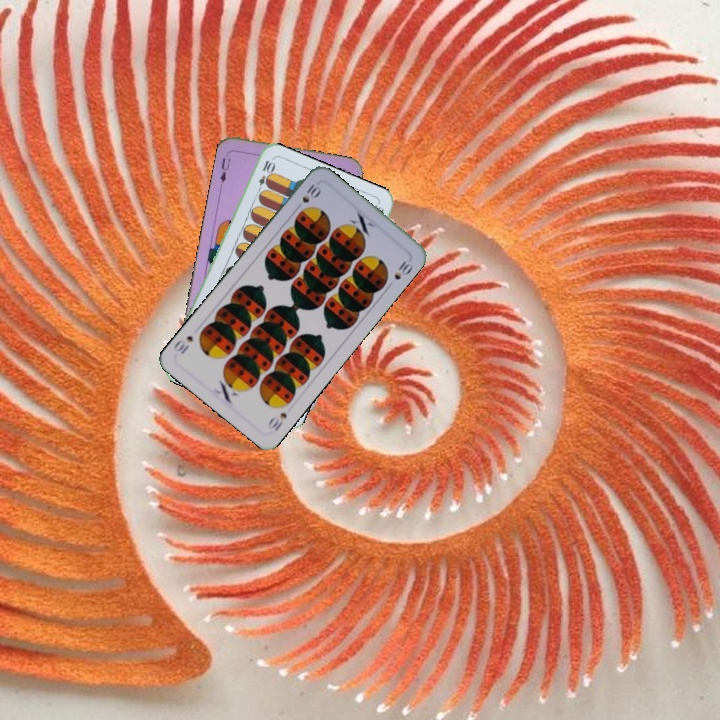E10: (253, 156, 276, 196)
EU: (216, 154, 233, 185)
S10: (298, 179, 324, 206), (264, 408, 289, 434)
